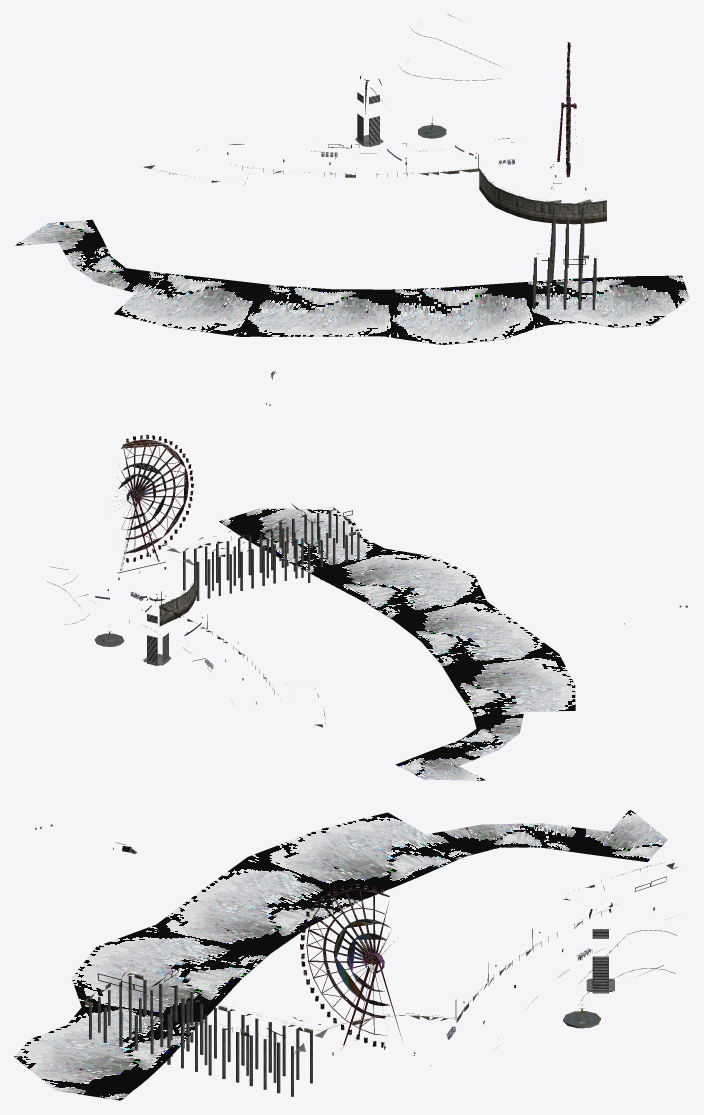
File: world_camden_15_-1.gltf
3 views of the same model, one above another, from view 1: azimuth 30°, elevation 25°; view 2: azimuth 150°, elevation 25°; view 3: azimuth 270°, elevation 25° (orthographic). The views are drawn at different scales.
Size of the model in its own units: 277 by 97.82 by 269.
33 materials, 33 textured.
